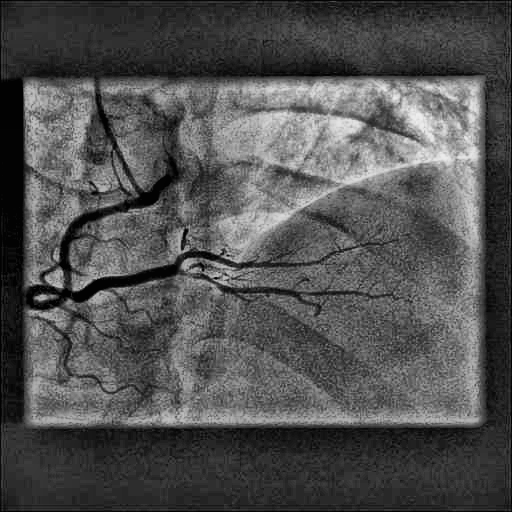pborca: (174, 242, 373, 268)
pda: (178, 269, 371, 297)
rca: (25, 196, 178, 311)
